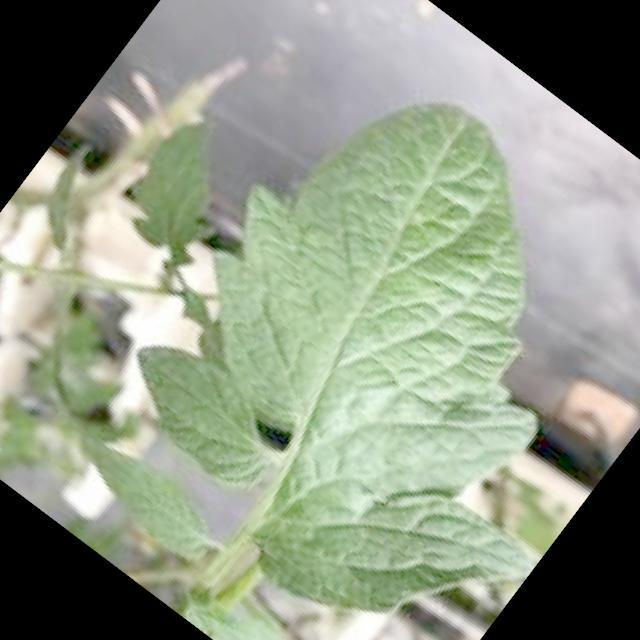Tomato healthy leaf: (139, 97, 542, 615), (92, 443, 219, 560)
